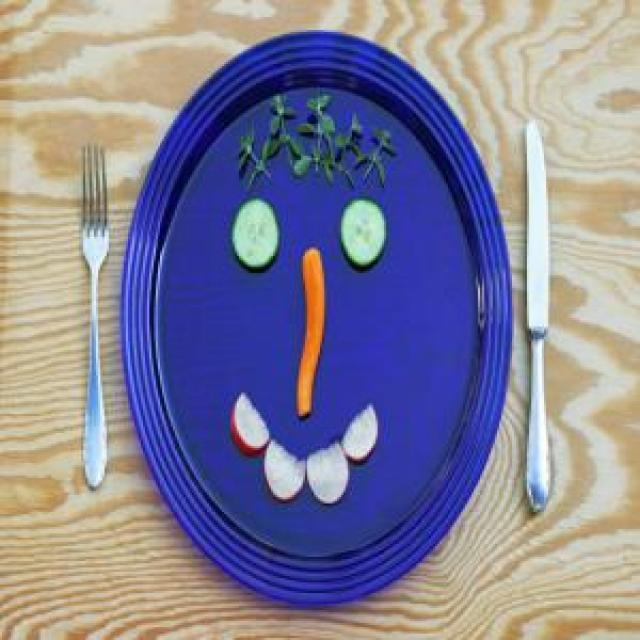knife: (522, 115, 554, 522)
